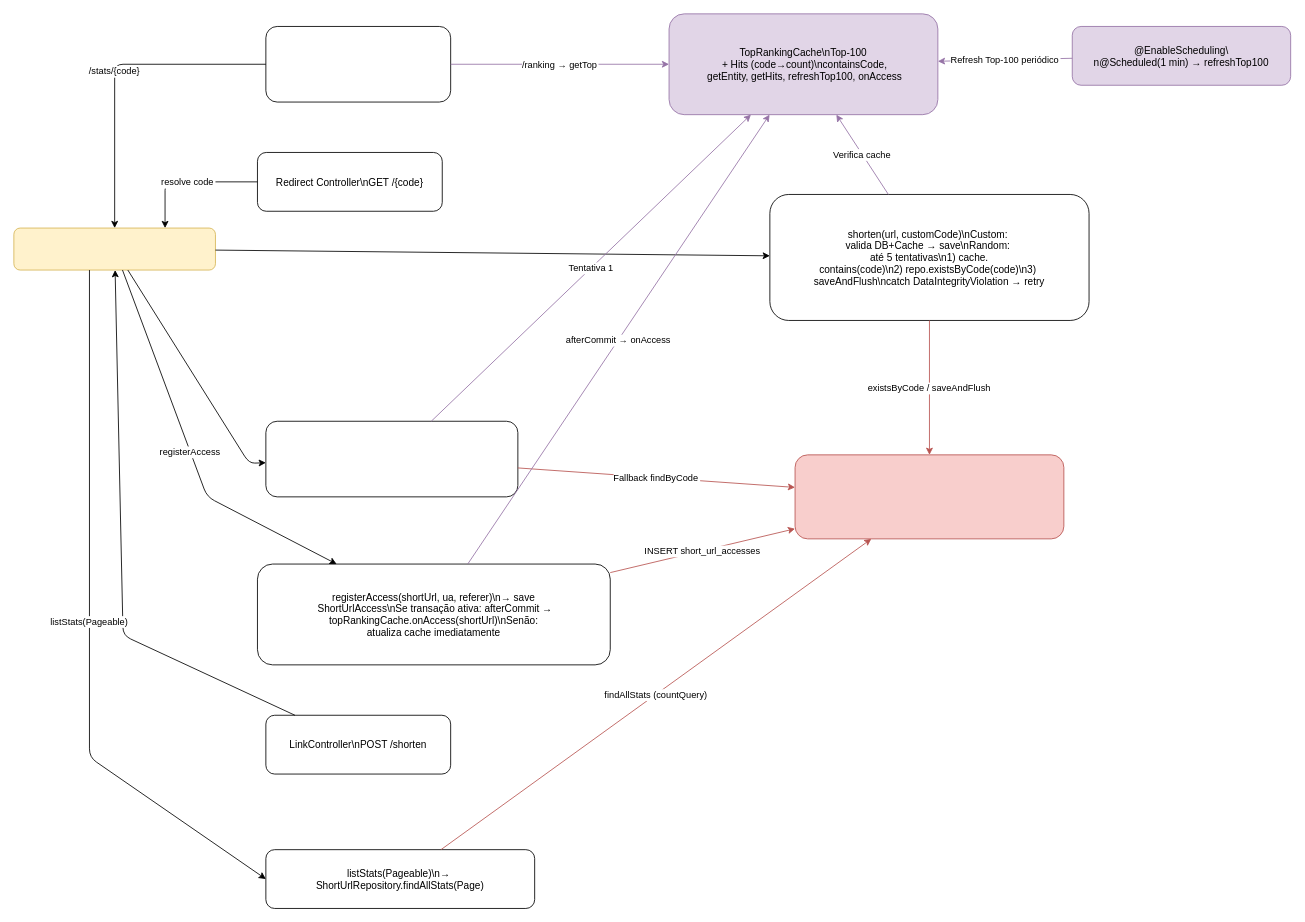
Some shapes in this 1305 by 922 pixel diagram are drawn without their labels. The box of each missing label's shape, as (x1, y1, x2, y2) in pixels:
Database (PostgreSQL)\nshort_urls (unique code)\nshort_url_accesses: (794, 454, 1064, 539)
getByCode(code)\n1) topRankingCache.getEntity\n2) repo.findByCode: (265, 420, 518, 497)
StatsController\nGET / ranking\nGET /stats/{code}: (265, 26, 451, 102)
UrlShortenerService: (13, 227, 215, 270)
